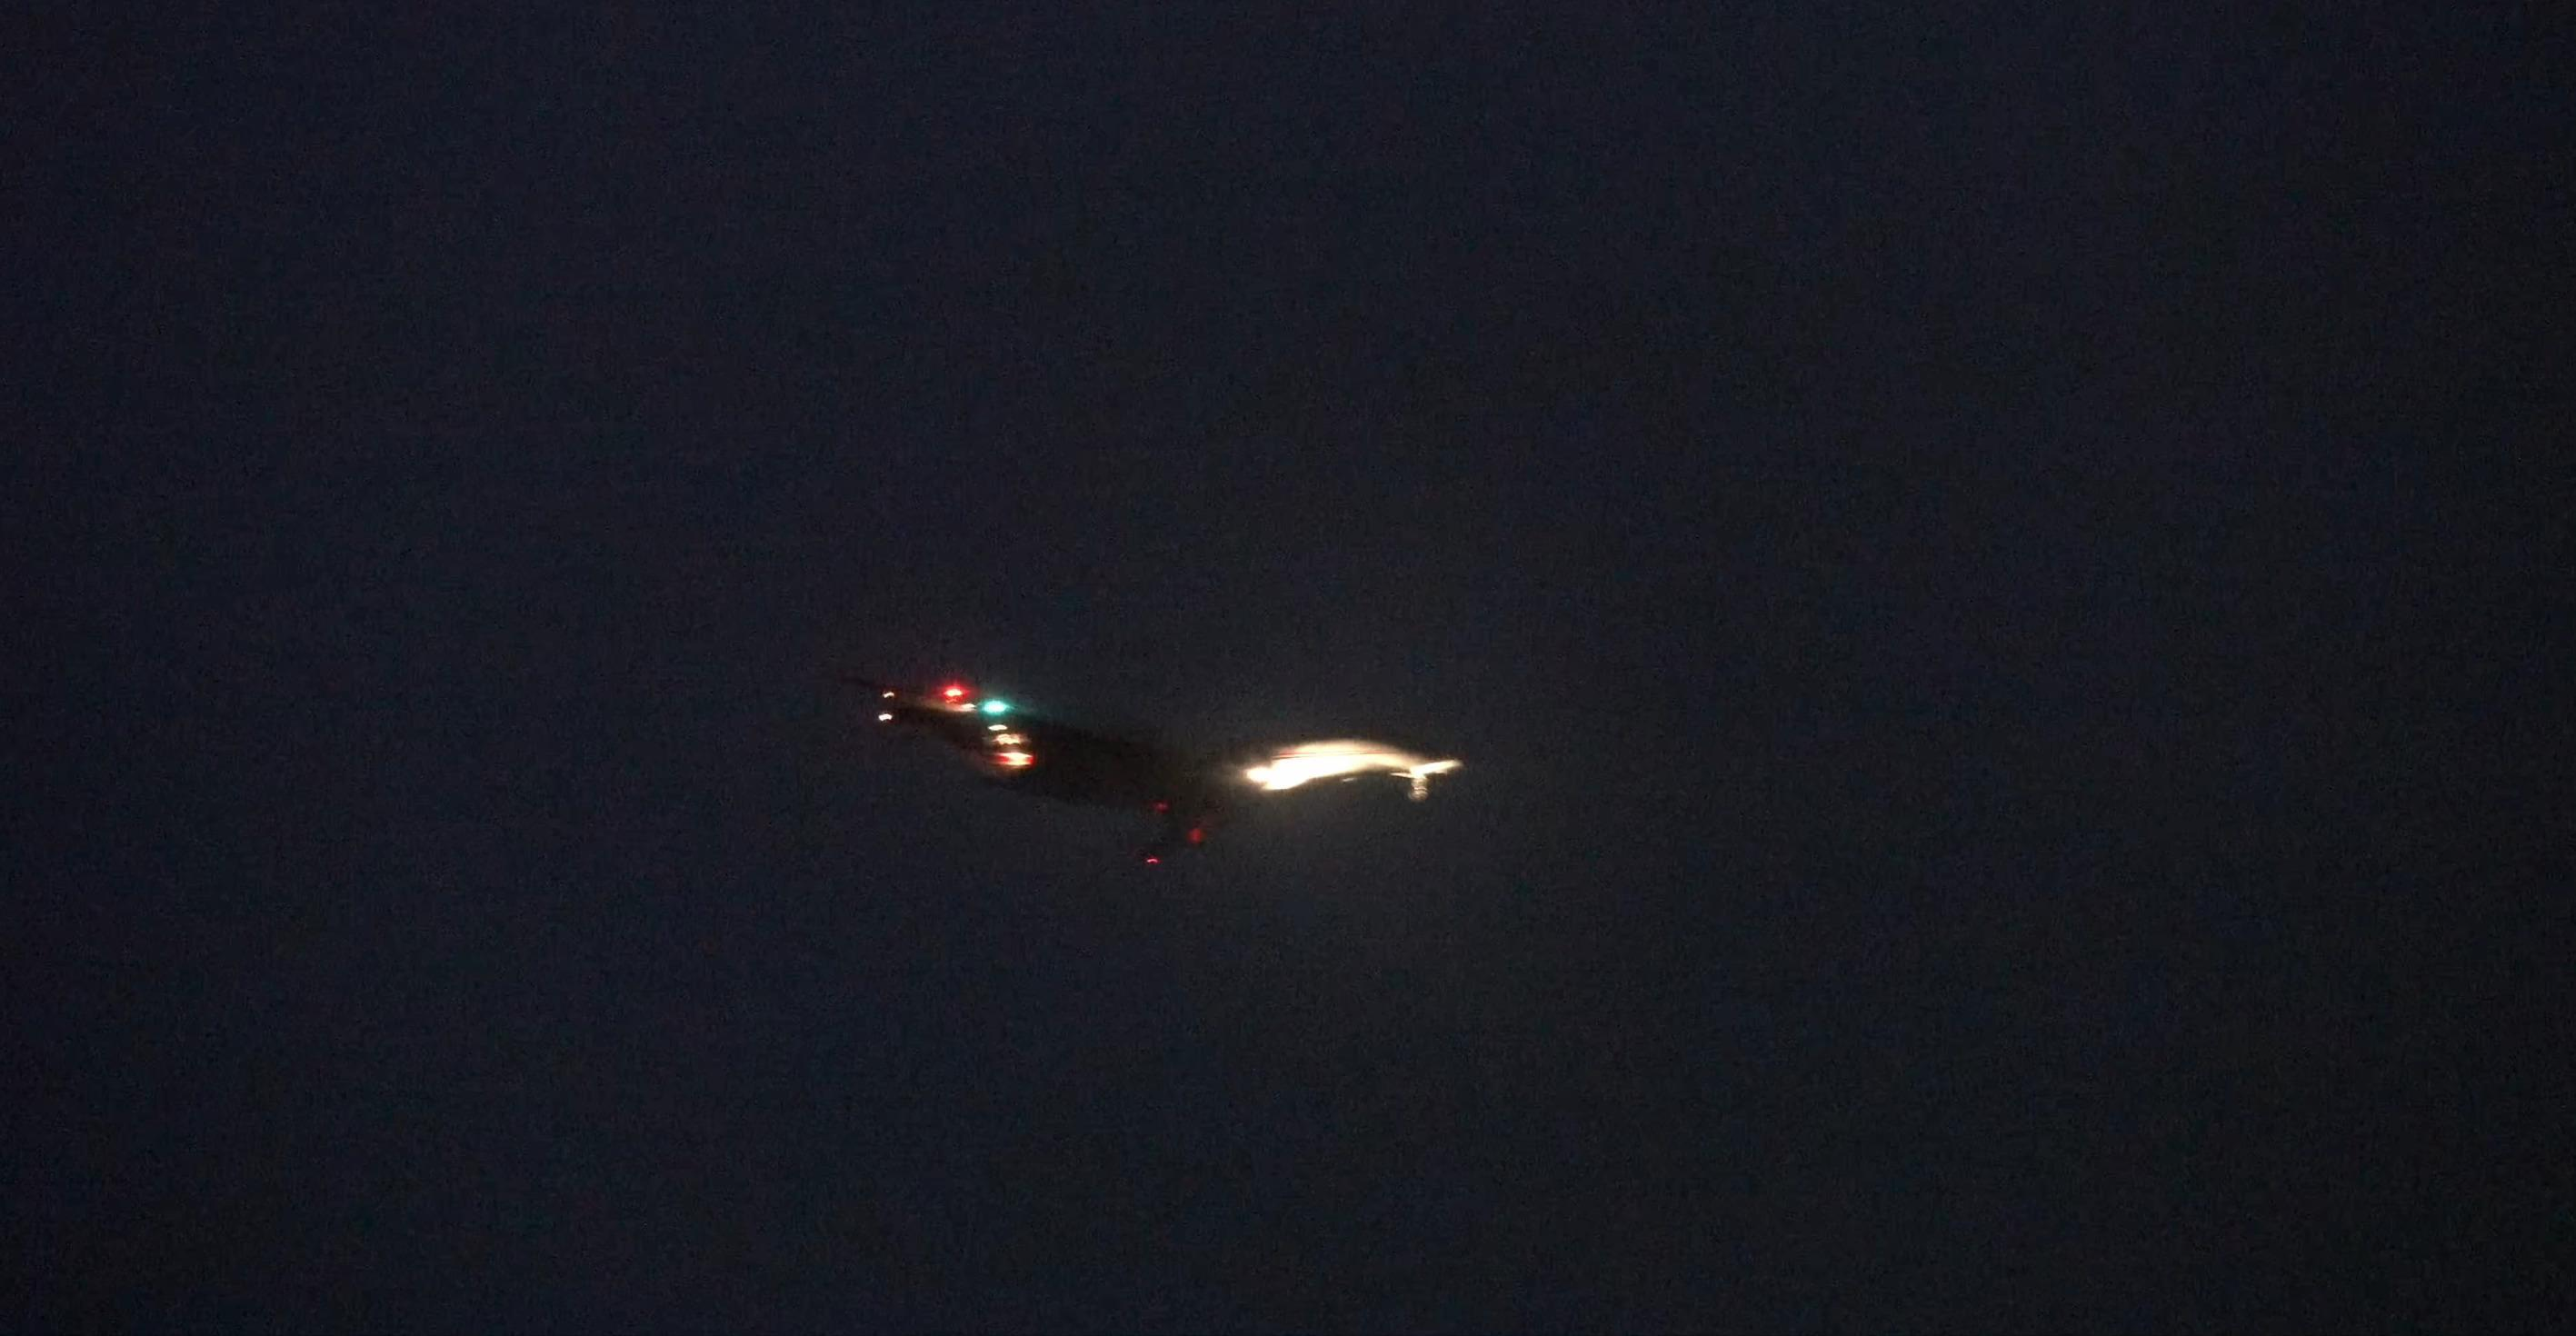Plane: (874, 648, 1448, 912)
